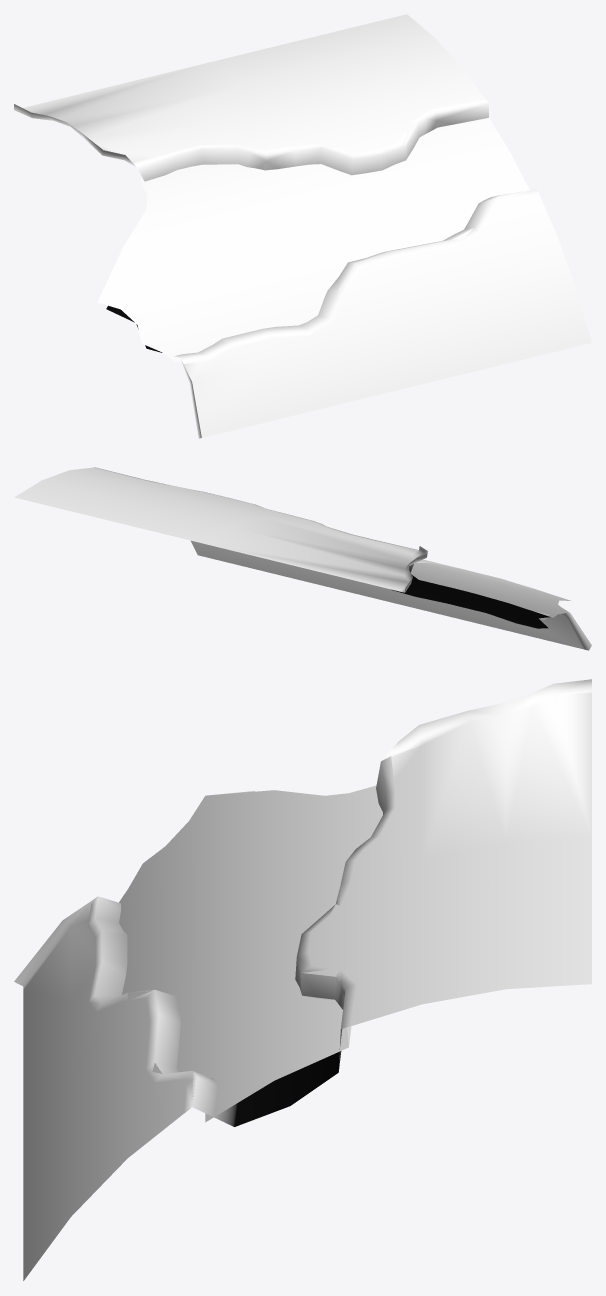
File: grd_Re_F_2.dae
The picture shows the model from 3 angles, top to bottom: view 1: azimuth 30°, elevation 25°; view 2: azimuth 150°, elevation 25°; view 3: azimuth 270°, elevation 25°; orthographic projection. The views are drawn at different scales.
Visible parts, largest first — view 1: grd_Re_F_2; view 2: grd_Re_F_2; view 3: grd_Re_F_2.
Boxes of the visible parts, box(x1,y1,x2,y2) form: grd_Re_F_2: box(14, 14, 591, 438); grd_Re_F_2: box(14, 467, 591, 650); grd_Re_F_2: box(14, 679, 591, 1280).
Bounding box in the file's own units: 576 × 252 × 430.
Materials: 4 (1 with a texture image).
